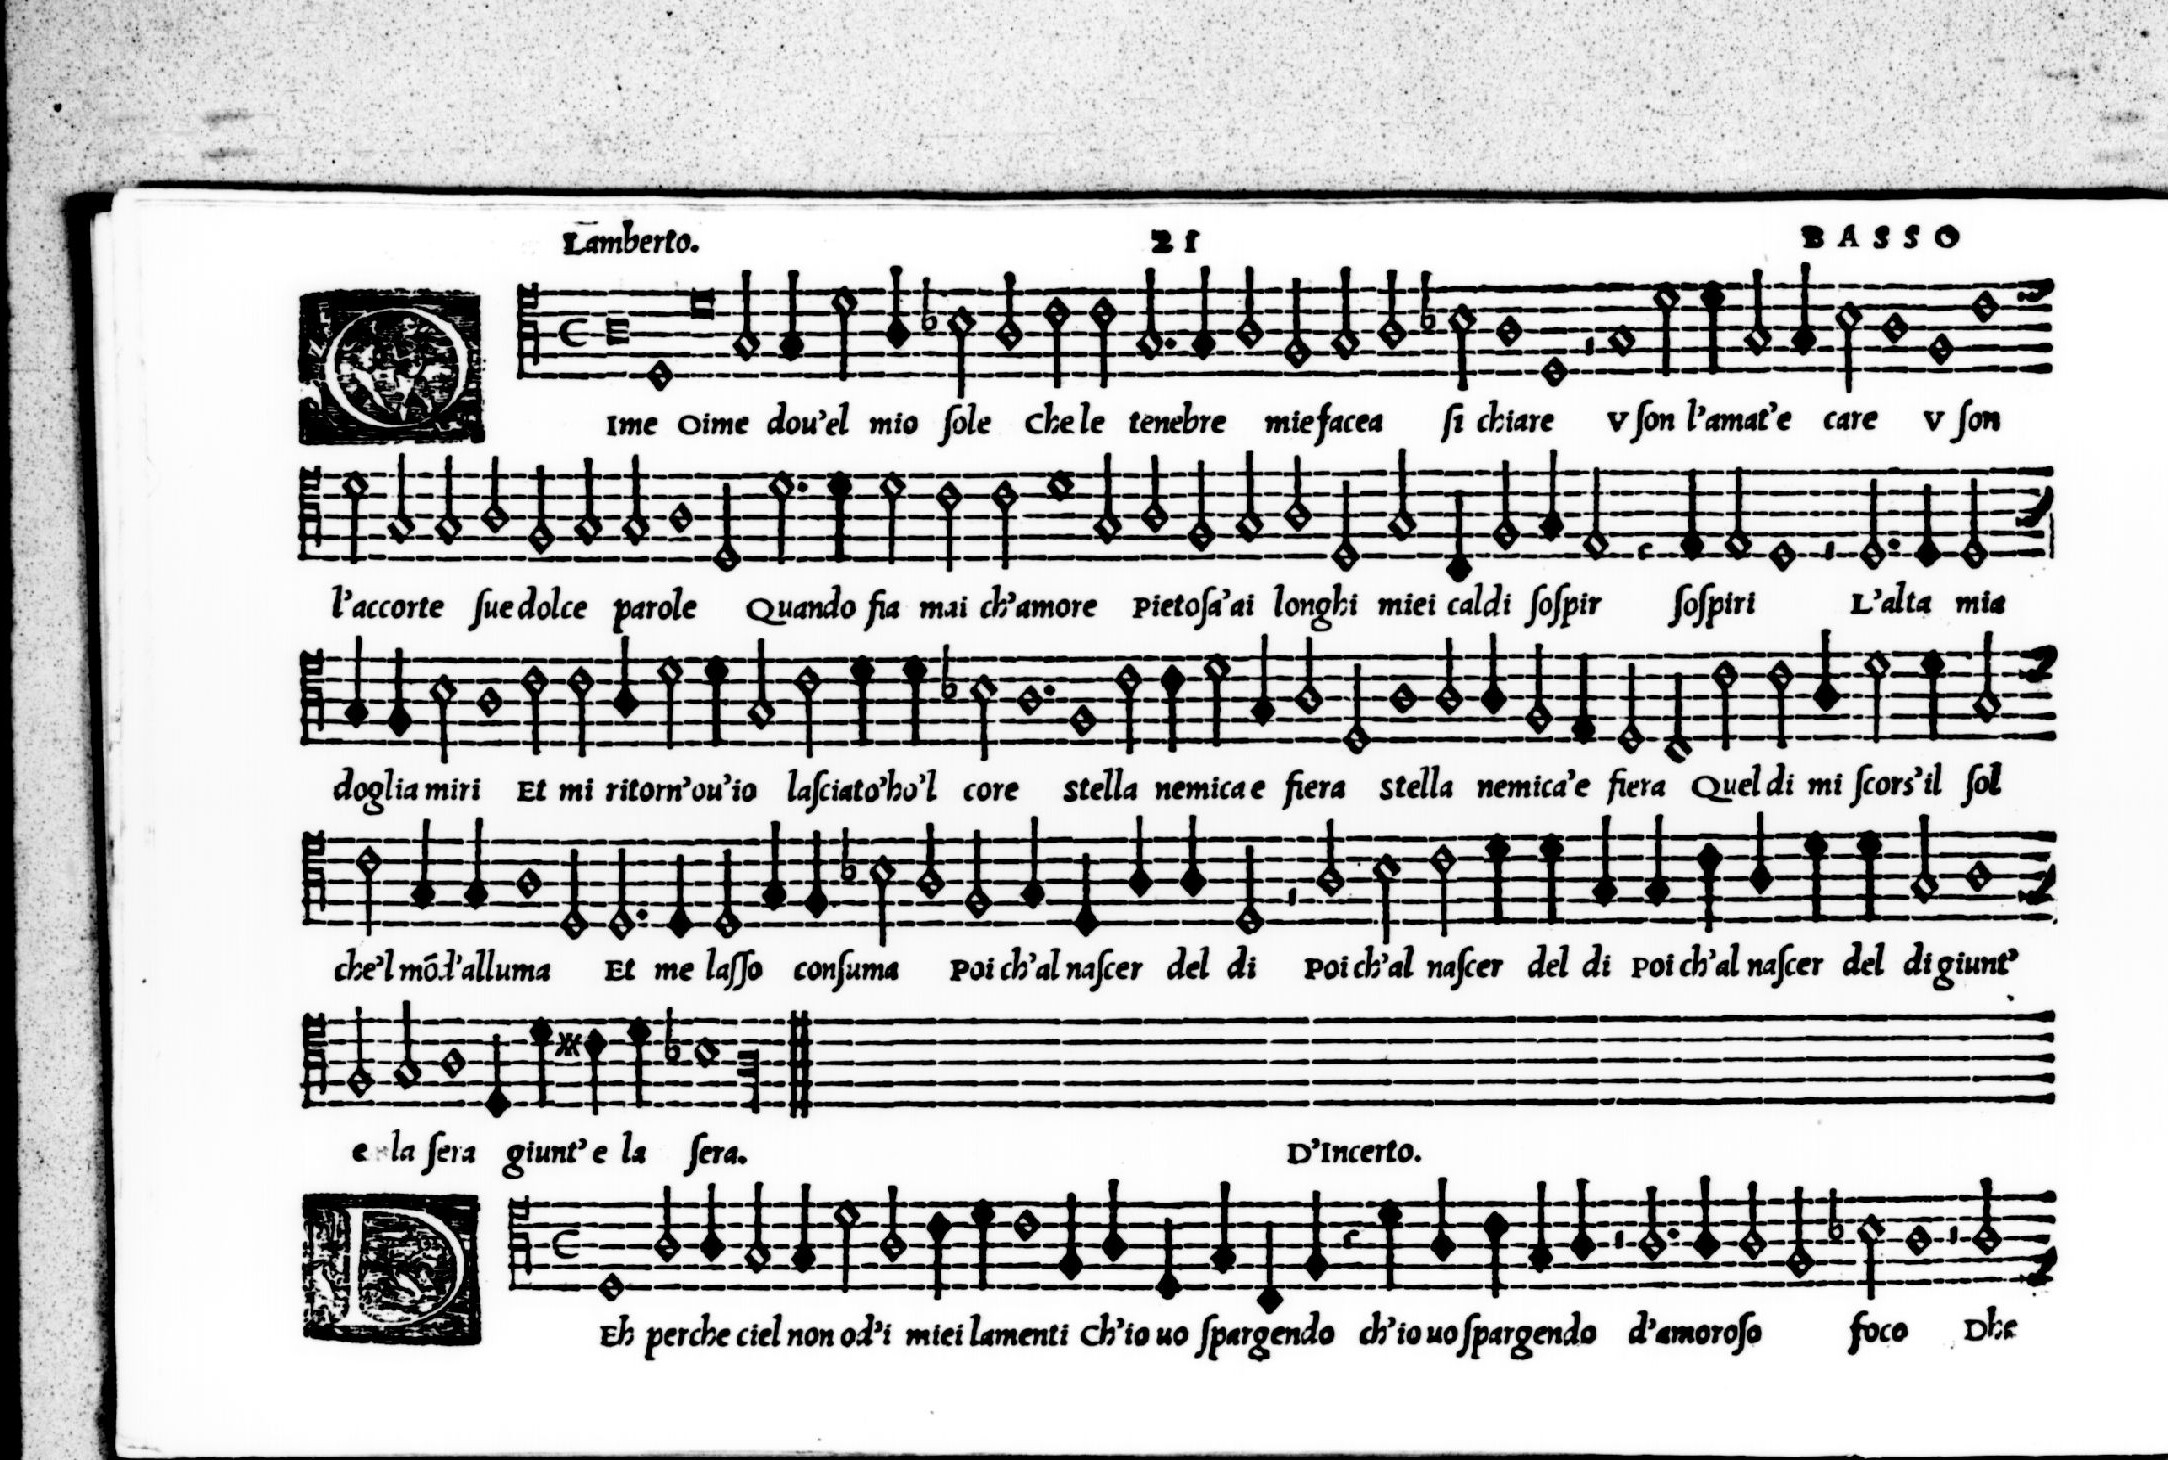c clef_5: (288, 627, 331, 745)
custos_5: (2008, 619, 2064, 706)
flat_6: (930, 629, 964, 714)
minim_11: (1337, 647, 1375, 763), (1609, 653, 1648, 759)
minim_12: (1658, 660, 1696, 769)
minim_4: (1855, 639, 1893, 743), (650, 645, 687, 748), (1196, 649, 1231, 750)
minim_5: (1108, 652, 1147, 758), (515, 650, 554, 754), (787, 639, 823, 751), (1705, 647, 1743, 751), (559, 655, 596, 759), (1762, 645, 1798, 750)
minim_6: (963, 653, 1000, 779), (422, 660, 458, 759)
minim_7: (1288, 614, 1326, 728), (1432, 614, 1468, 728)
minim_8: (1964, 618, 2005, 740), (743, 624, 779, 737)
minim_9: (1536, 631, 1557, 746)
point: (1033, 666, 1060, 714)
semibreve_7: (1380, 663, 1432, 727), (461, 666, 508, 732), (1008, 663, 1047, 732)
semibreve_9: (1059, 684, 1104, 751)
semiminim_10: (1562, 639, 1601, 758)
semiminim_4: (840, 639, 878, 750), (894, 639, 930, 754), (1912, 640, 1951, 745), (697, 644, 736, 746)
semiminim_5: (1150, 649, 1187, 758)
semiminim_7: (1469, 618, 1513, 728), (1805, 622, 1847, 727), (622, 631, 647, 732)
semiminim_8: (1243, 624, 1284, 737), (336, 627, 373, 740)
semiminim_9: (380, 640, 420, 745)
